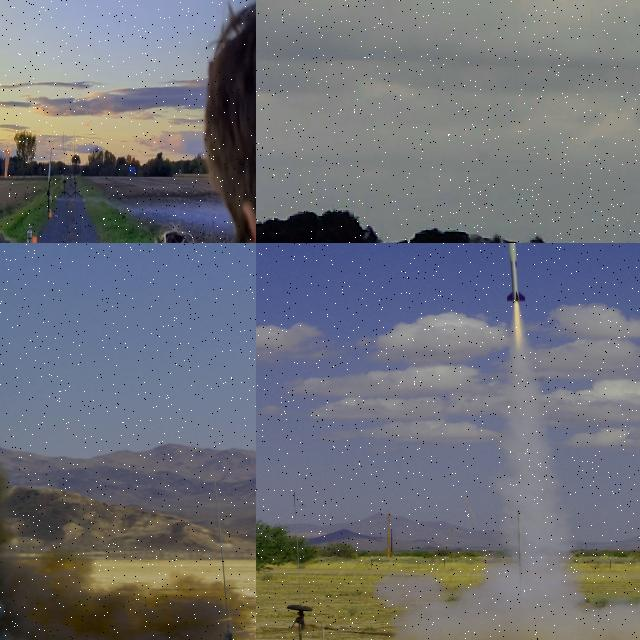Rocket: (506, 243, 525, 301), (46, 147, 52, 198)
